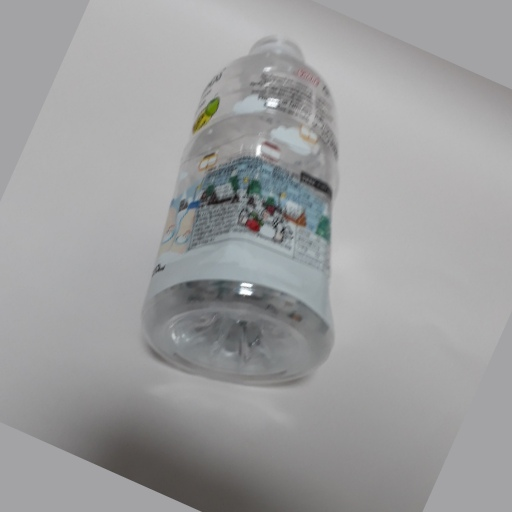Plastic_0: (149, 34, 337, 389)
